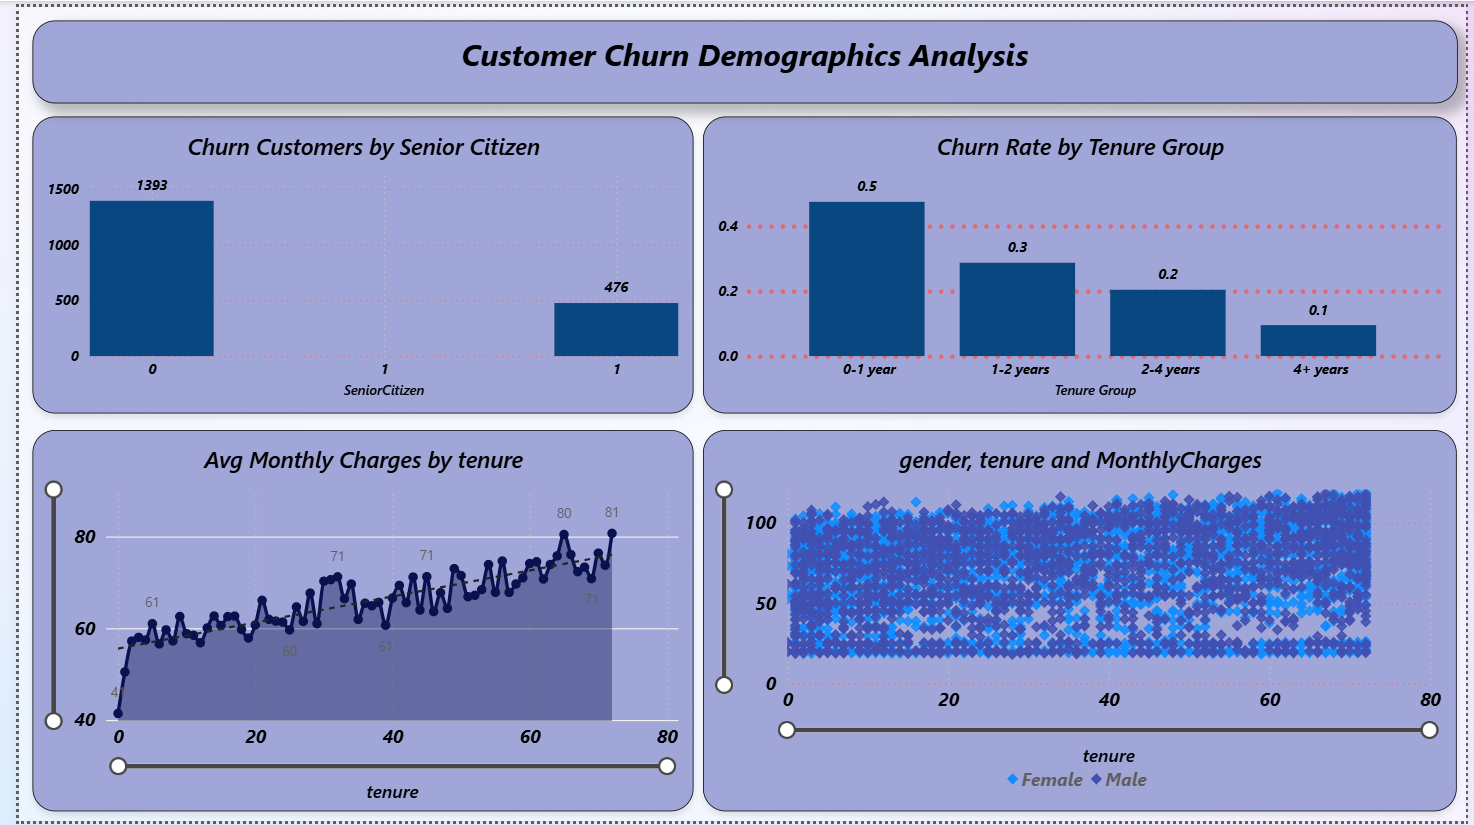

This screenshot's page, from the dashboard's own definition file:
{"tool":"powerbi","page":{"name":"Demographics Analysis","canvas":[1280,720],"ordinal":1},"visuals":[{"type":"columnChart","title":"Churn Customers by Senior Citizen","fields":{"Category":["WA_Fn-UseC_-Telco-Customer-Churn.SeniorCitizen"],"Y":["WA_Fn-UseC_-Telco-Customer-Churn.churn customers"]},"box":[12.2,96.6,584.5,262.9],"z":0},{"type":"clusteredColumnChart","title":"Churn Rate by Tenure Group","fields":{"Category":["WA_Fn-UseC_-Telco-Customer-Churn.Tenure Group"],"Y":["WA_Fn-UseC_-Telco-Customer-Churn.Churn Rate"]},"box":[605.3,96.6,666.4,262.9],"z":1000},{"type":"lineChart","fields":{"Category":["WA_Fn-UseC_-Telco-Customer-Churn.tenure"],"Y":["WA_Fn-UseC_-Telco-Customer-Churn.Avg Monthly Charges"]},"box":[12.2,374.2,584.5,337.5],"z":2000},{"type":"scatterChart","fields":{"X":["WA_Fn-UseC_-Telco-Customer-Churn.tenure"],"Y":["WA_Fn-UseC_-Telco-Customer-Churn.MonthlyCharges"],"Series":["WA_Fn-UseC_-Telco-Customer-Churn.gender"]},"box":[605.3,374.2,666.4,337.5],"z":3000},{"type":"textbox","box":[11.5,11.5,1261,73.6],"z":4000}]}

Visuals, with their boxes in screenshot pixels (x1, y1, x2, y2), scaled from the page's 1280x720 canvas onto the 1474x825 screenshot:
"Churn Customers by Senior Citizen" columnChart: left=14, top=111, right=687, bottom=412
"Churn Rate by Tenure Group" clusteredColumnChart: left=697, top=111, right=1464, bottom=412
lineChart - WA_Fn-UseC_-Telco-Customer-Churn.tenure x WA_Fn-UseC_-Telco-Customer-Churn.Avg Monthly Charges: left=14, top=429, right=687, bottom=815
scatterChart - WA_Fn-UseC_-Telco-Customer-Churn.tenure x WA_Fn-UseC_-Telco-Customer-Churn.MonthlyCharges: left=697, top=429, right=1464, bottom=815
textbox: left=13, top=13, right=1465, bottom=98
